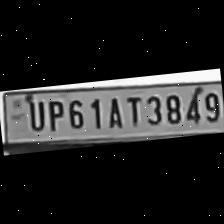1: (83, 94, 105, 132)
3: (140, 91, 164, 127)
4: (180, 86, 202, 125)
6: (64, 95, 86, 131)
8: (160, 90, 182, 127)
9: (200, 88, 222, 124)
A: (100, 94, 125, 130)
P: (42, 96, 66, 132)
T: (120, 92, 144, 130)
U: (22, 97, 46, 133)
